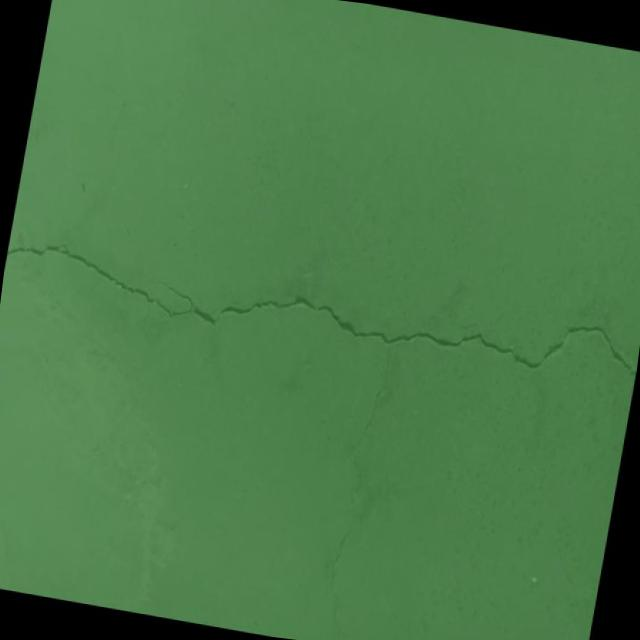crack: (0, 221, 640, 550), (328, 516, 357, 595)
